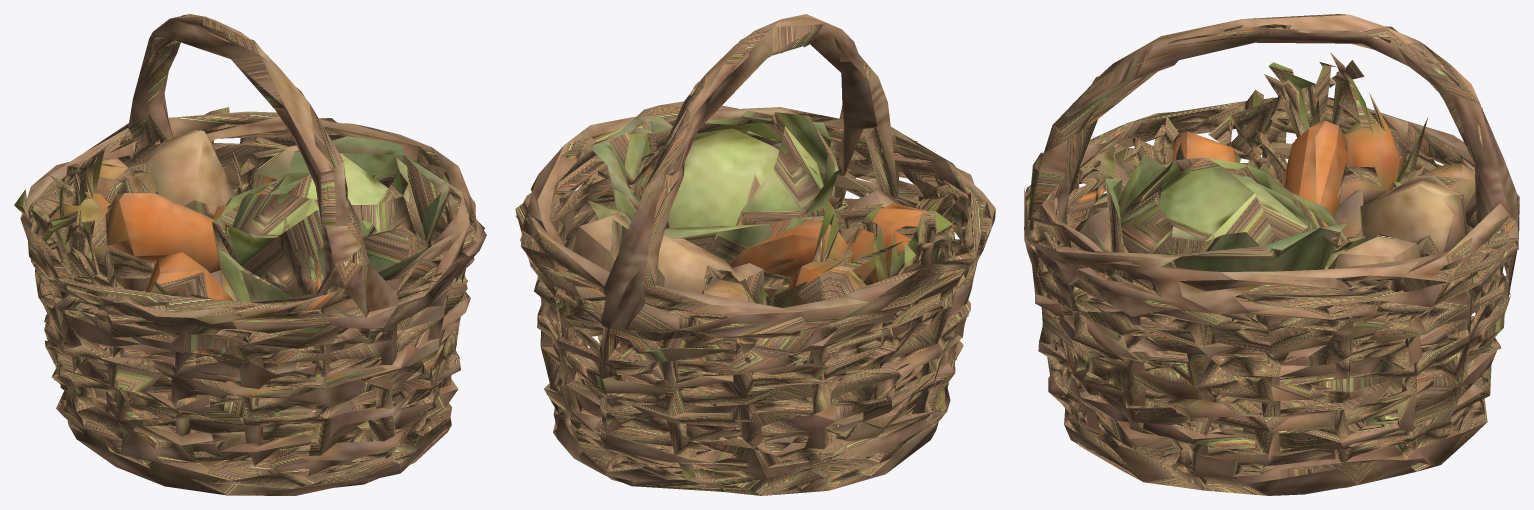
3 views of the same model, side by side, from view 1: azimuth 30°, elevation 25°; view 2: azimuth 150°, elevation 25°; view 3: azimuth 270°, elevation 25° (orthographic). The views are drawn at different scales.
Visible parts, largest first — view 1: geometry_0; view 2: geometry_0; view 3: geometry_0.
Boxes of the visible parts, box(x1,y1,x2,y2) form: geometry_0: box(14, 14, 486, 495); geometry_0: box(515, 14, 995, 495); geometry_0: box(1024, 14, 1519, 495).
Bounding box in the file's own units: 0.3445 × 0.3093 × 0.3485.
Materials: 1 (1 with a texture image).
